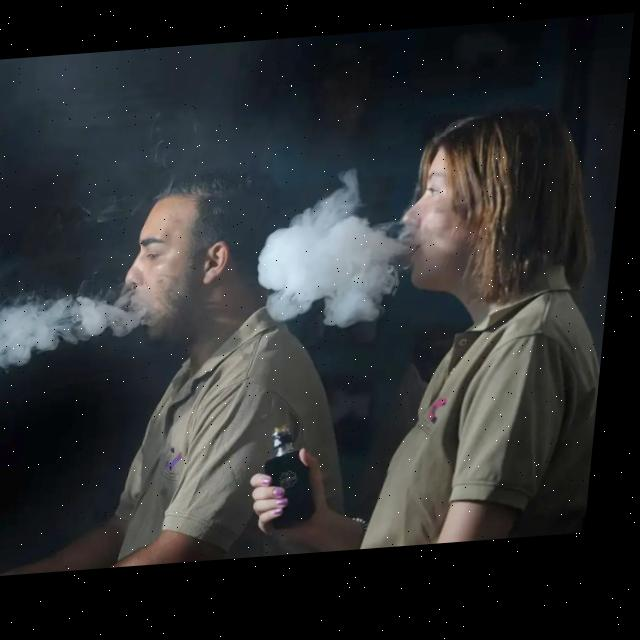vape: (269, 428, 332, 536)
